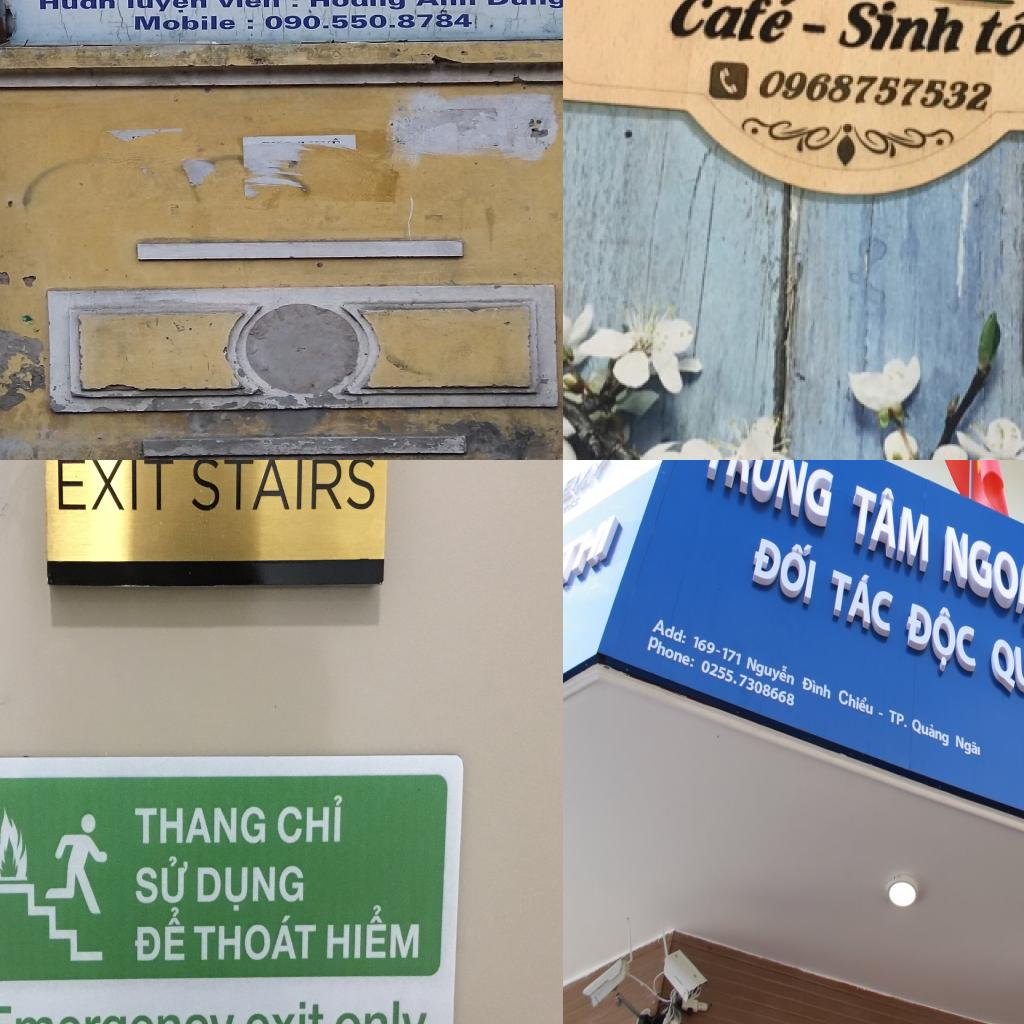text: (758, 65, 997, 116), (190, 460, 378, 514), (699, 460, 837, 533), (940, 523, 1024, 641), (832, 0, 976, 58), (849, 476, 930, 575), (901, 593, 978, 686), (660, 0, 806, 48), (56, 460, 174, 516), (192, 910, 319, 962), (325, 898, 422, 962), (748, 523, 820, 608), (0, 999, 241, 1024), (133, 804, 268, 848), (196, 861, 306, 915), (825, 560, 897, 641), (700, 658, 796, 710), (563, 511, 623, 592), (277, 791, 345, 847), (989, 622, 1024, 723), (968, 4, 1024, 65), (132, 903, 188, 964), (134, 854, 192, 908), (887, 706, 952, 751), (243, 994, 326, 1024), (563, 460, 611, 511), (744, 648, 797, 692), (131, 13, 241, 32), (690, 632, 744, 668), (646, 634, 697, 670), (836, 685, 875, 718), (650, 615, 690, 646), (123, 0, 209, 13), (308, 0, 408, 11), (36, 0, 119, 12), (800, 674, 833, 702), (956, 732, 982, 762), (484, 0, 563, 9), (213, 0, 281, 9), (413, 0, 479, 8), (563, 496, 581, 523), (245, 16, 256, 31), (287, 0, 301, 10)
